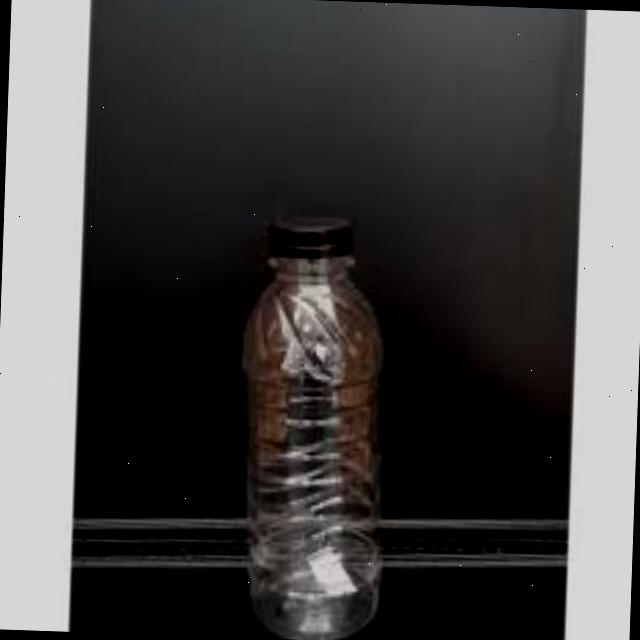trash: (224, 205, 400, 640)
